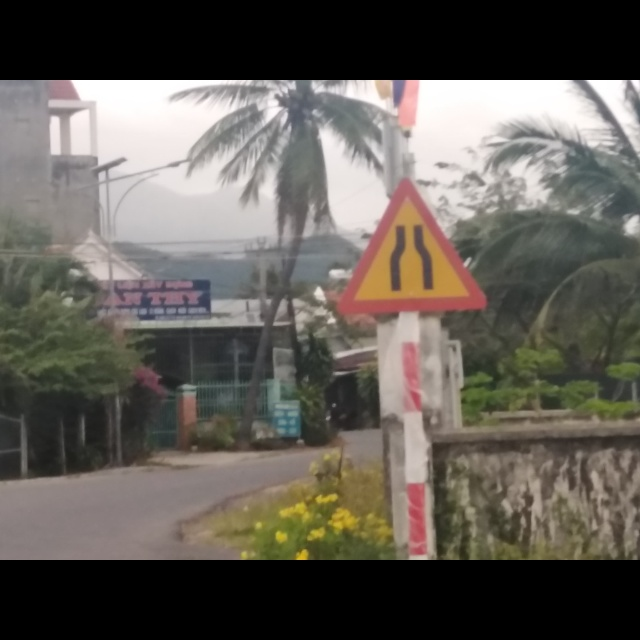Đường bị hẹp cả hai bên: (337, 176, 488, 311)
